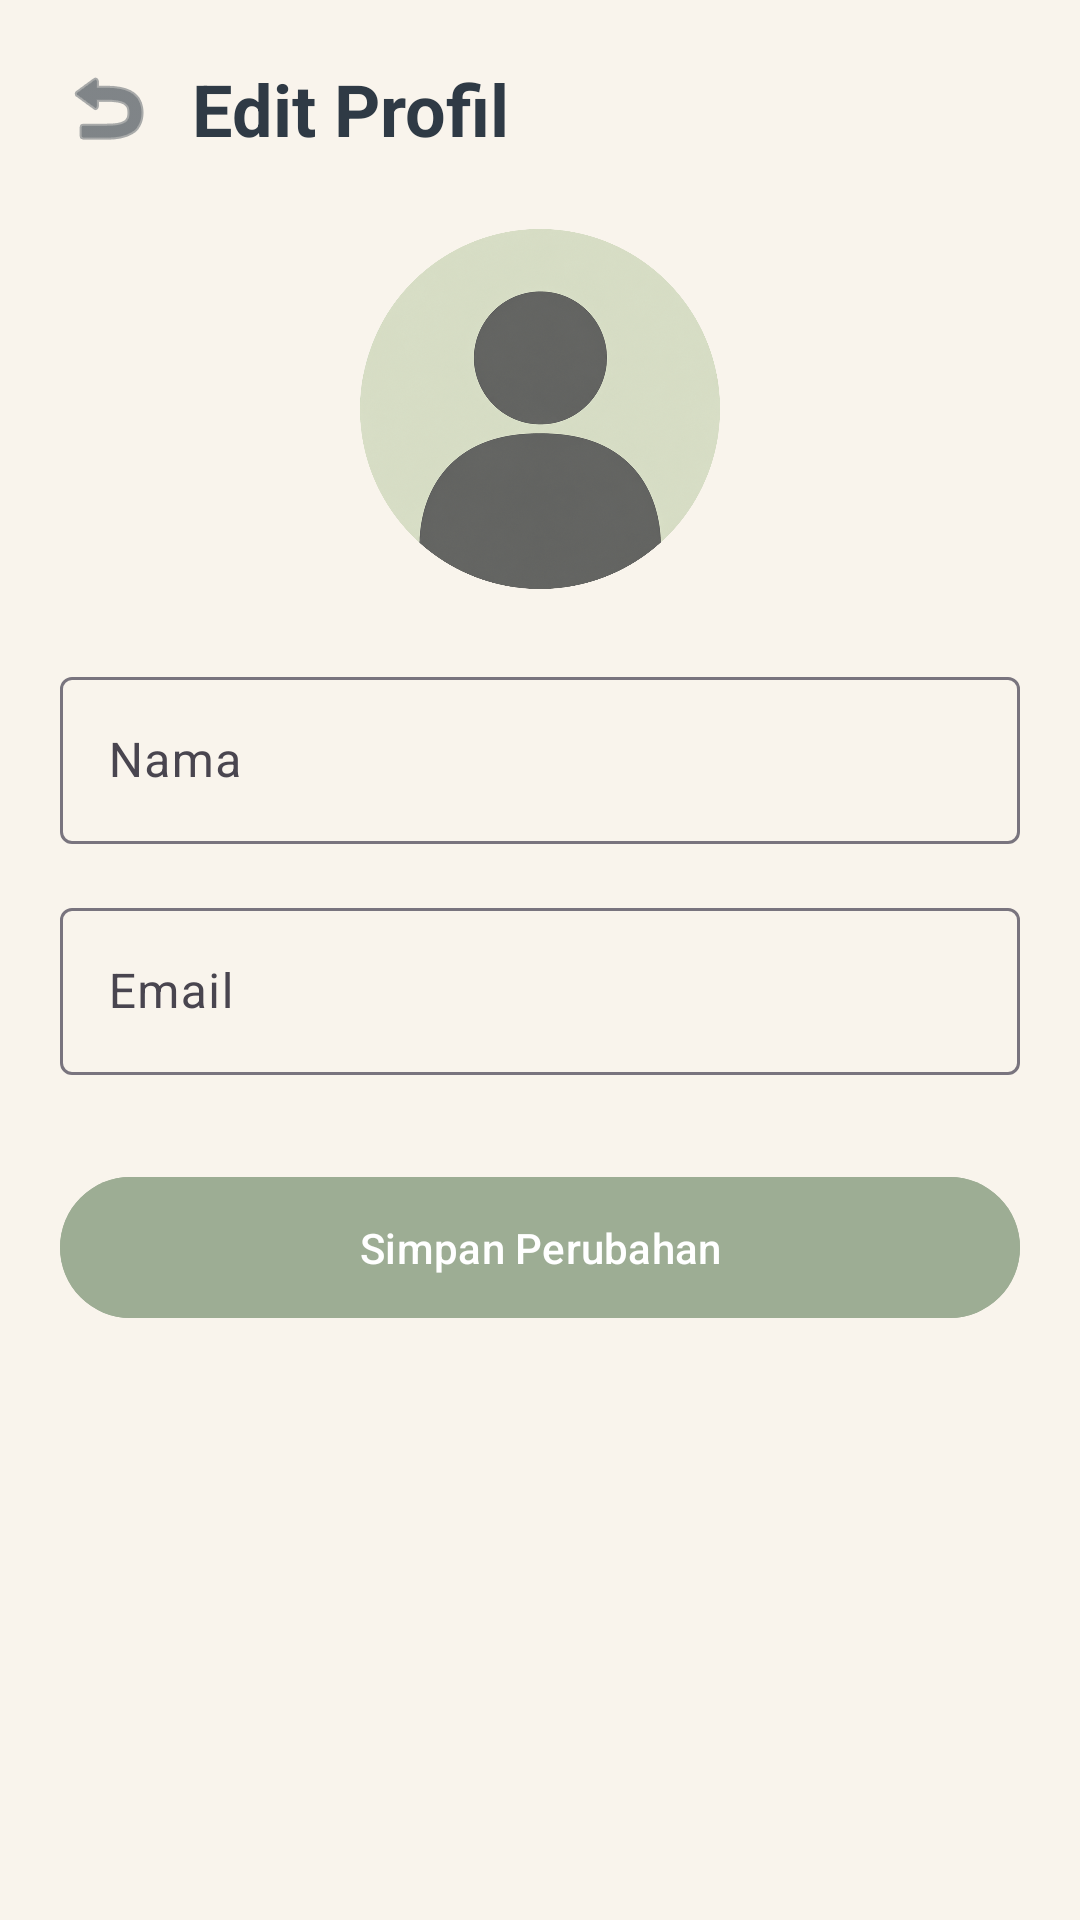

Where icons sit on this 1080x1920 app screen, as [x1, y1, x2, y2]:
foto profil: [360, 229, 720, 589]
revert: [75, 77, 144, 140]
